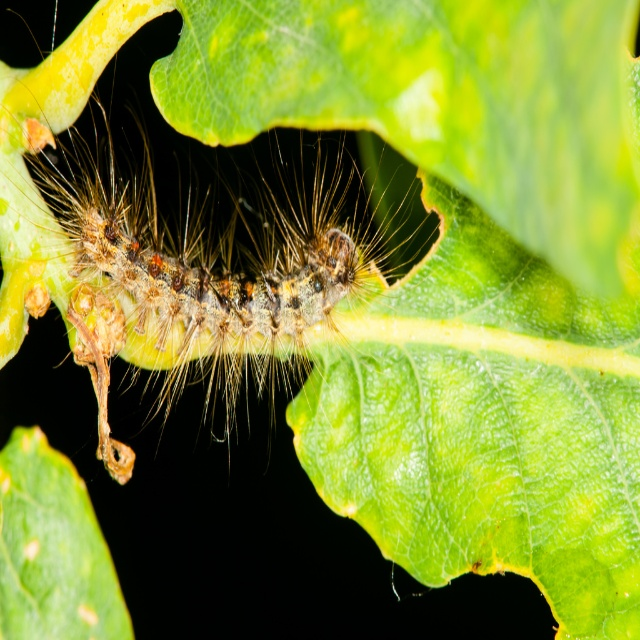Caterpillar: (0, 0, 441, 468)
